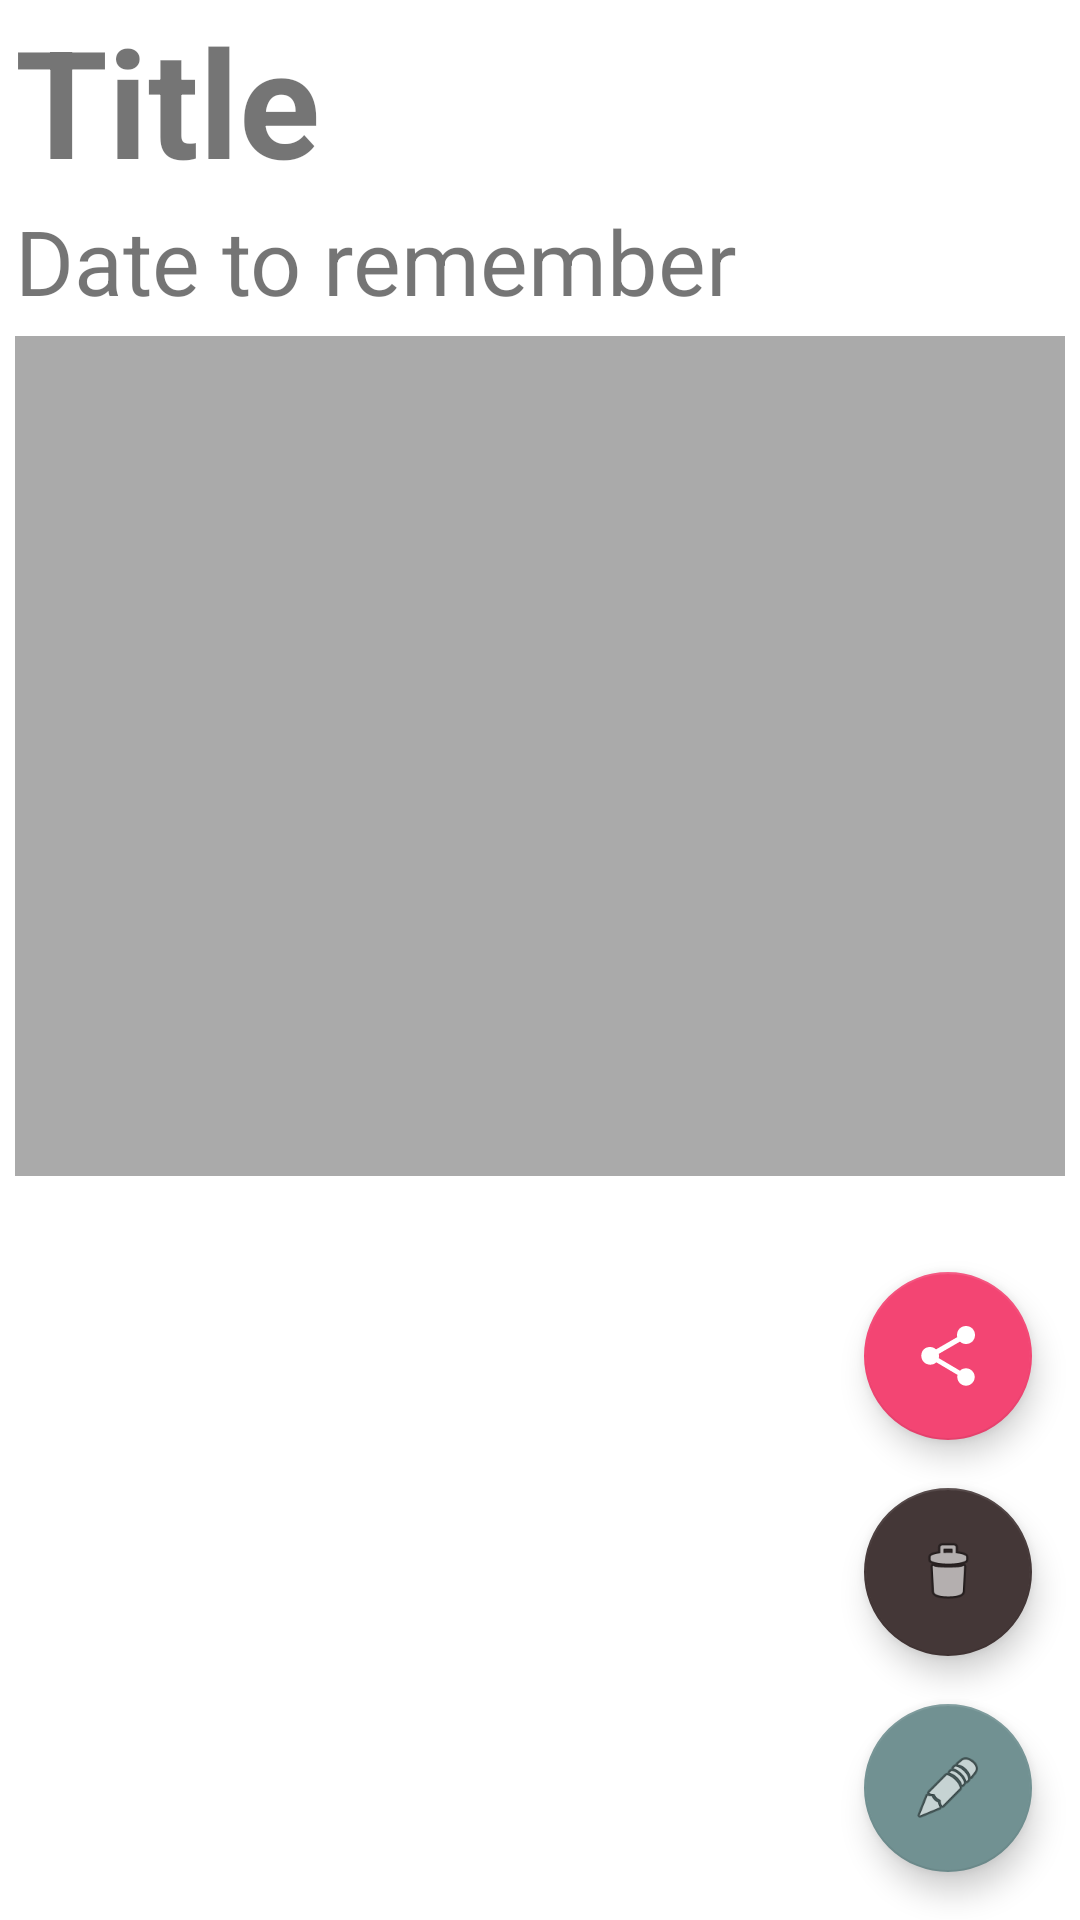

Locate icon controls on the screen. Image size 1080×1920, boxes as (x1,y1,x2,y2).
delete: (864,1488,1032,1656)
edit: (864,1704,1032,1872)
